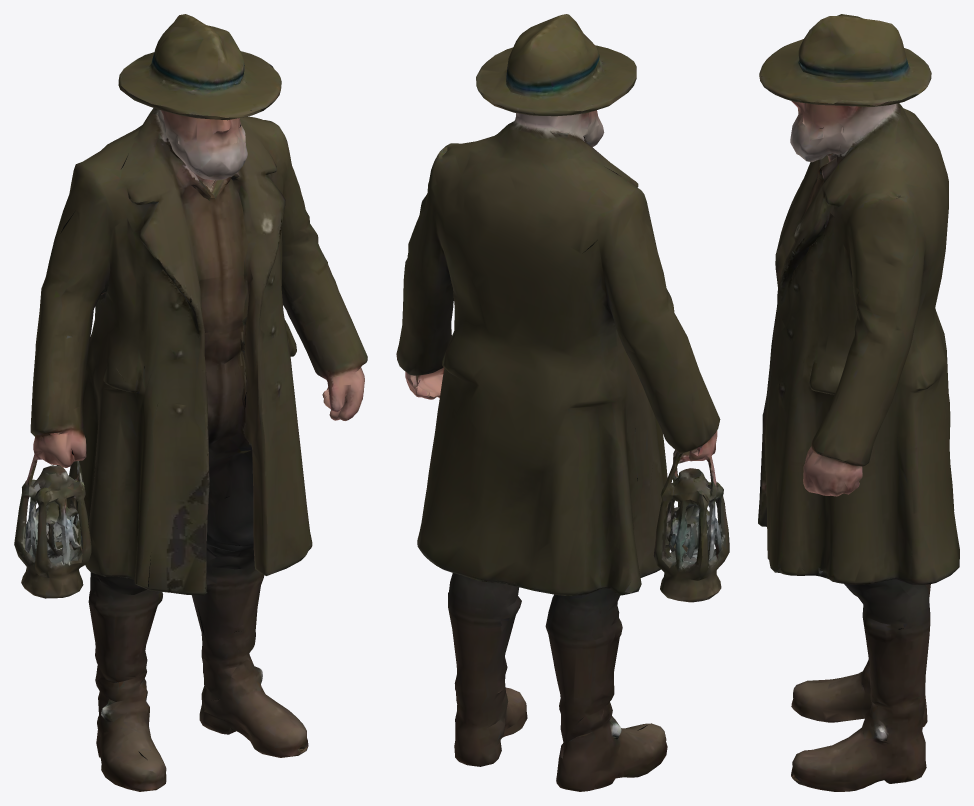
The model's file is ranger.glb.
3 renders of one model, left to right at view 1: azimuth 30°, elevation 25°; view 2: azimuth 150°, elevation 25°; view 3: azimuth 270°, elevation 25°, orthographic.
Visible parts, largest first — view 1: ranger; view 2: ranger; view 3: ranger.
Part boxes in pixels (box(x1,y1,x2,y2)): ranger: box(14, 14, 367, 791); ranger: box(396, 14, 729, 791); ranger: box(758, 14, 959, 791).
Bounding box in the file's own units: 0.8416 × 1.8 × 0.45.
Materials: 1 (1 with a texture image).
